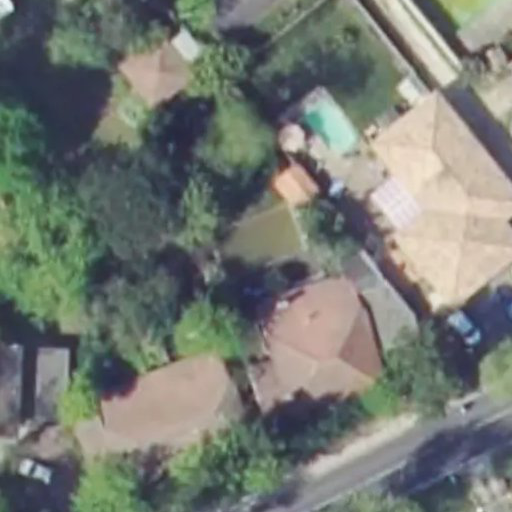pool: (289, 94, 355, 159)
